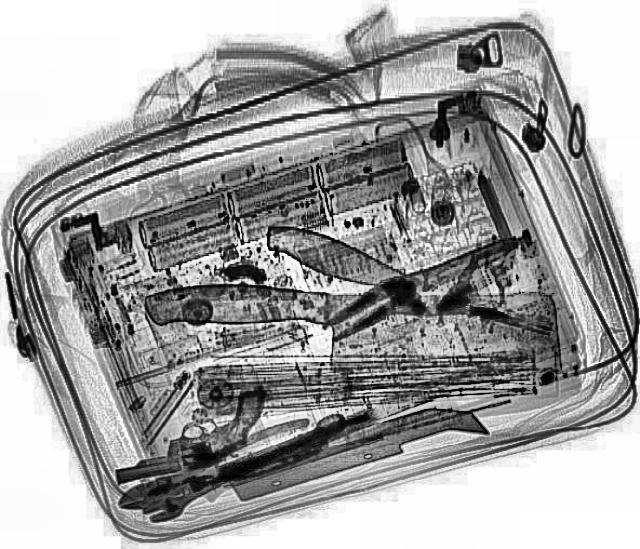Gun: (98, 388, 282, 484)
Knife: (140, 282, 558, 384), (255, 215, 557, 346)
Pliers: (102, 414, 326, 522)
Wrench: (134, 412, 356, 526)
